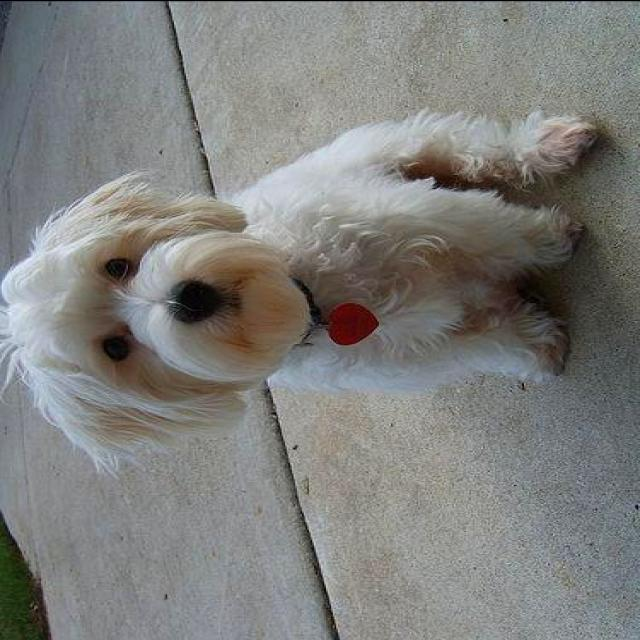maltese_dog: (4, 109, 602, 477)
